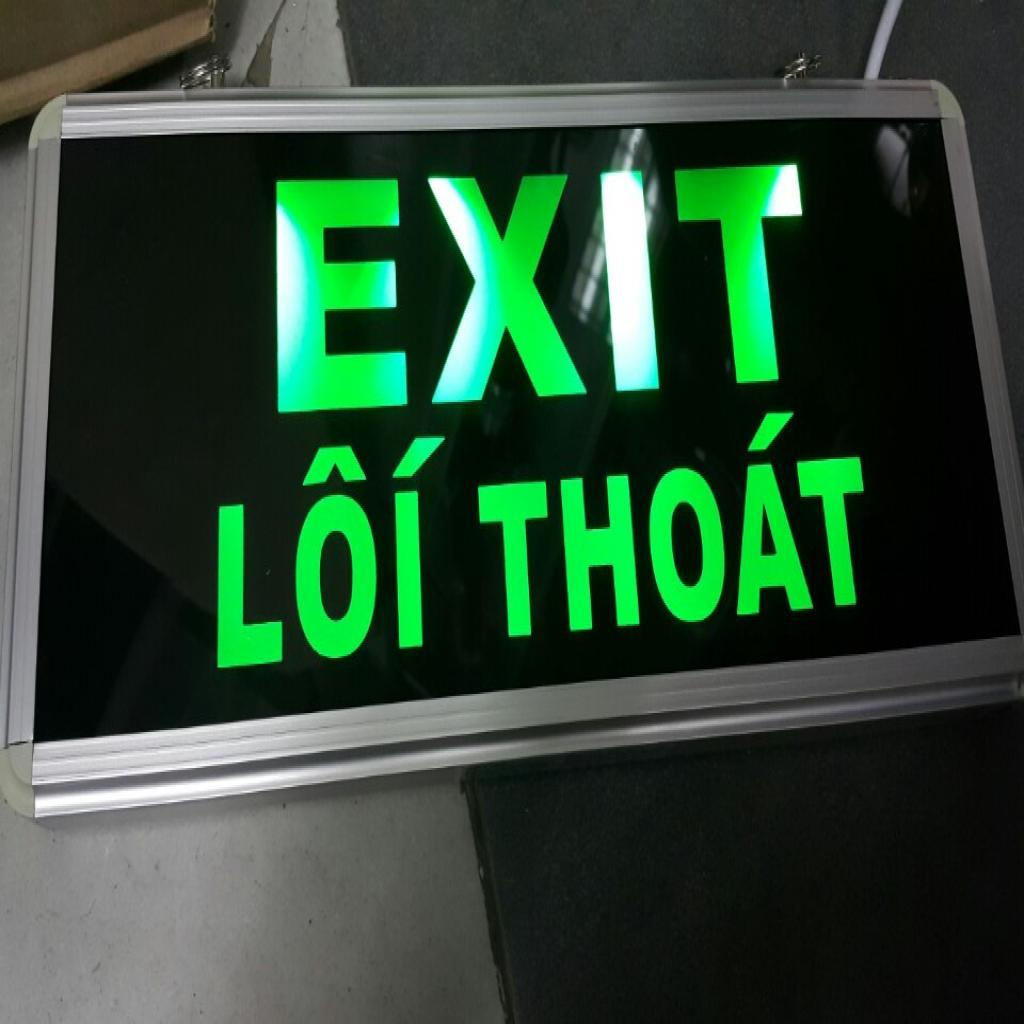text: (270, 153, 811, 423), (202, 427, 458, 688)
